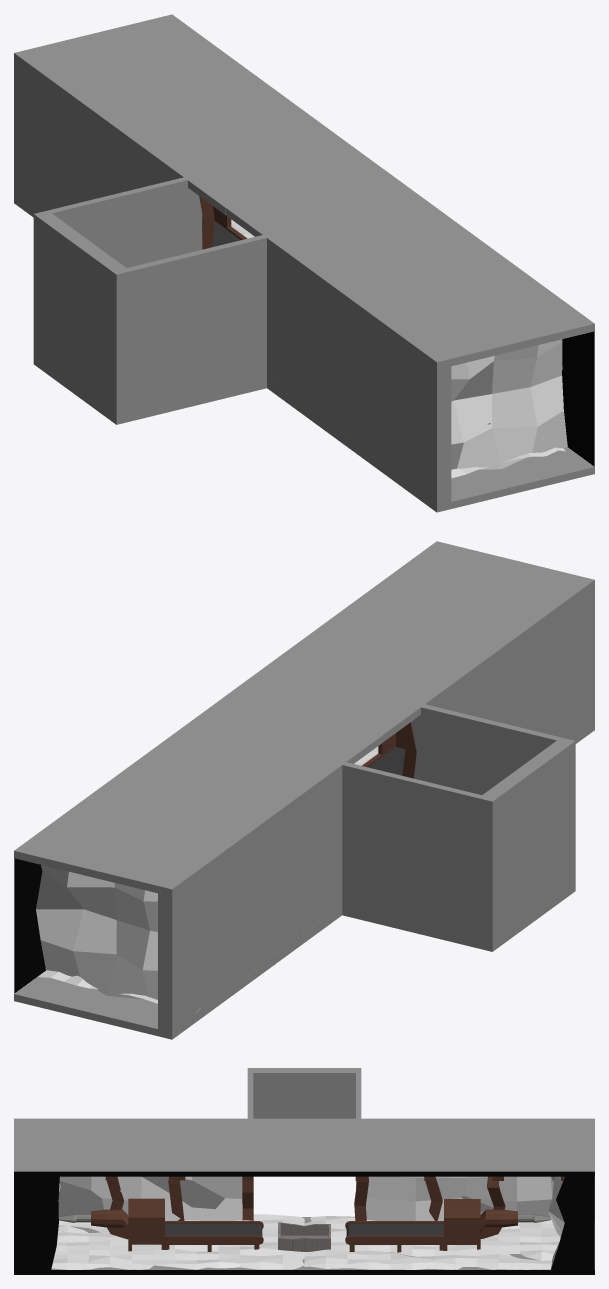
Rendered from Mine_test2.fbx.
3 views of the same model, one above another, from view 1: azimuth 30°, elevation 25°; view 2: azimuth 150°, elevation 25°; view 3: azimuth 270°, elevation 25° (orthographic). The views are drawn at different scales.
Parts seen in each view (by area): view 1: minenschacht_links, minenschacht_rechts, fahrstuhlschacht, rohstoffwand_links, abdeckung_rohstoffwand_links; view 2: minenschacht_rechts, minenschacht_links, fahrstuhlschacht, rohstoffwand_rechts, abdeckung_rohstoffwand_rechts; view 3: minenschacht_links, minenschacht_rechts, rohstoffboden_stufe1_rechts, rohstoffboden_stufe1_links, deko_stufe1_rechts(rohstoffwand), fahrstuhlschacht, abdeckung_rohstoffwand_links, deko_stufe1_links(rohstoffwand), abdeckung_rohstoffwand_rechts, laufband_stufe1_rechts, laufband_stufe1_links, abbaumaschine_stufe1_links (+7 smaller).
Boxes of the visible parts, x1,y1,x2,y2 form: minenschacht_links: (225, 169, 594, 512); minenschacht_rechts: (14, 14, 382, 252); fahrstuhlschacht: (33, 177, 266, 424); rohstoffwand_links: (451, 339, 567, 469); abdeckung_rohstoffwand_links: (562, 331, 594, 466); minenschacht_rechts: (14, 696, 383, 1039); minenschacht_links: (226, 541, 594, 779); fahrstuhlschacht: (342, 704, 575, 951); rohstoffwand_rechts: (36, 865, 157, 999); abdeckung_rohstoffwand_rechts: (14, 858, 45, 993); minenschacht_links: (14, 1118, 304, 1274); minenschacht_rechts: (304, 1118, 594, 1274); rohstoffboden_stufe1_rechts: (304, 1216, 560, 1269); rohstoffboden_stufe1_links: (51, 1214, 304, 1269); deko_stufe1_rechts(rohstoffwand): (366, 1176, 552, 1220); fahrstuhlschacht: (247, 1068, 361, 1118); abdeckung_rohstoffwand_links: (14, 1176, 59, 1269); deko_stufe1_links(rohstoffwand): (59, 1176, 242, 1220); abdeckung_rohstoffwand_rechts: (551, 1176, 594, 1269); laufband_stufe1_rechts: (345, 1221, 444, 1252); laufband_stufe1_links: (164, 1221, 263, 1251); abbaumaschine_stufe1_links: (128, 1198, 164, 1251).
Size of the model in its own units: 430 by 200 by 1020.
